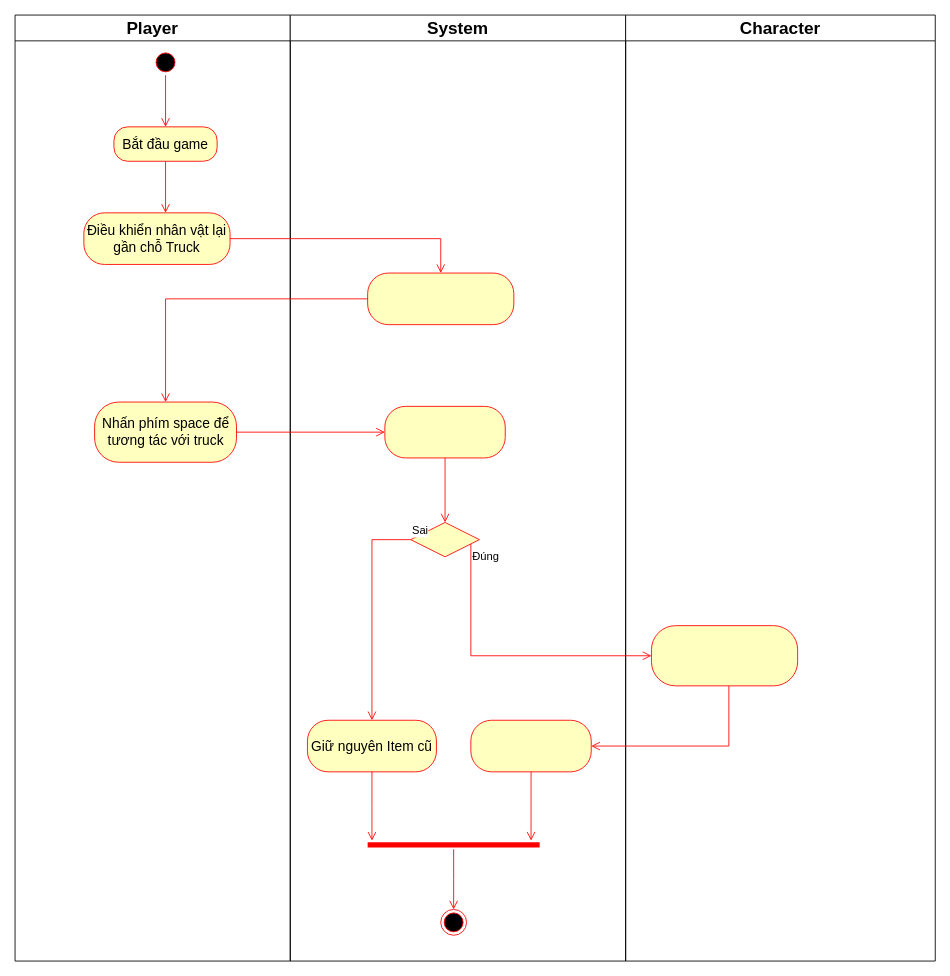
The diagram is 950 pixels wide and 976 high, and some of its shapes have lost their labels. Each missing label, with the centre of its shape:
"Hiện item được random trong truck" belongs at point 440,298.
"Kiểm tra trạng thái character" belongs at point 444,431.
"Xuất hiện Item mới" belongs at point 530,745.
"Xuất hiện Item phía trên character" belongs at point 724,655.
